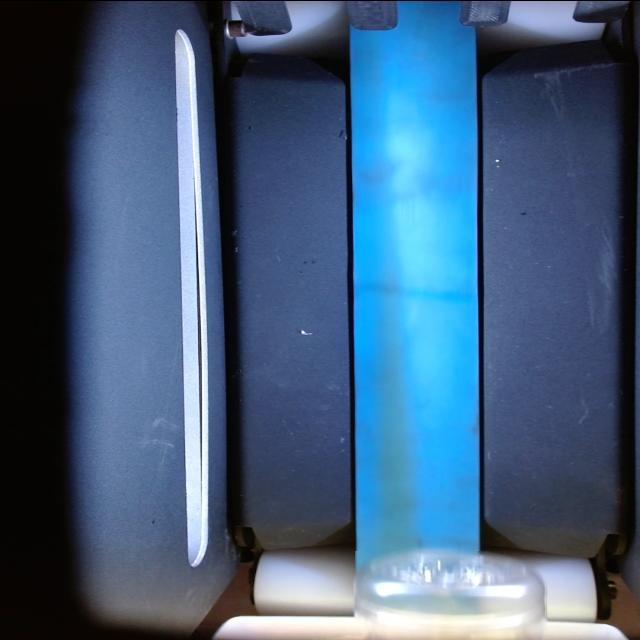bottom: (355, 550, 546, 640)
